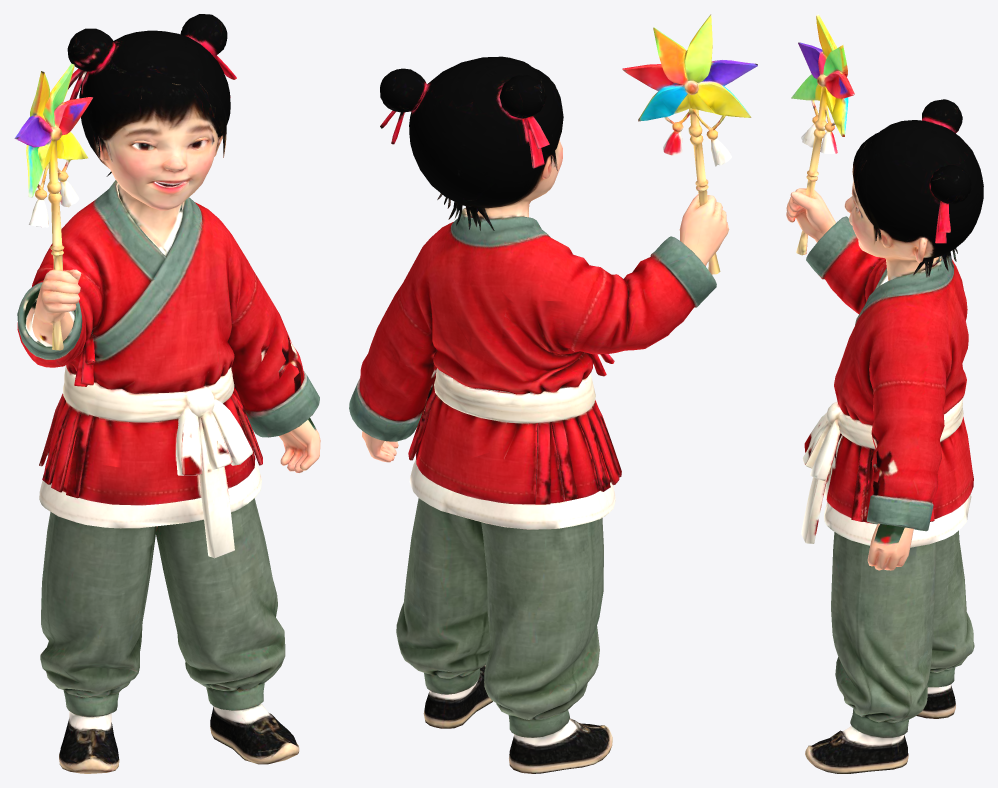
The model's file is p_child.glb.
3 views of the same model, side by side, from view 1: azimuth 30°, elevation 25°; view 2: azimuth 150°, elevation 25°; view 3: azimuth 270°, elevation 25° (orthographic). The views are drawn at different scales.
Parts seen in each view (by area): view 1: p_child; view 2: p_child; view 3: p_child.
Boxes of the visible parts, box(x1,y1,x2,y2) form: p_child: box(14, 14, 320, 773); p_child: box(349, 14, 757, 773); p_child: box(786, 14, 983, 773).
Size of the model in its own units: 0.548 by 1.1 by 0.3029.
1 material, 1 textured.
